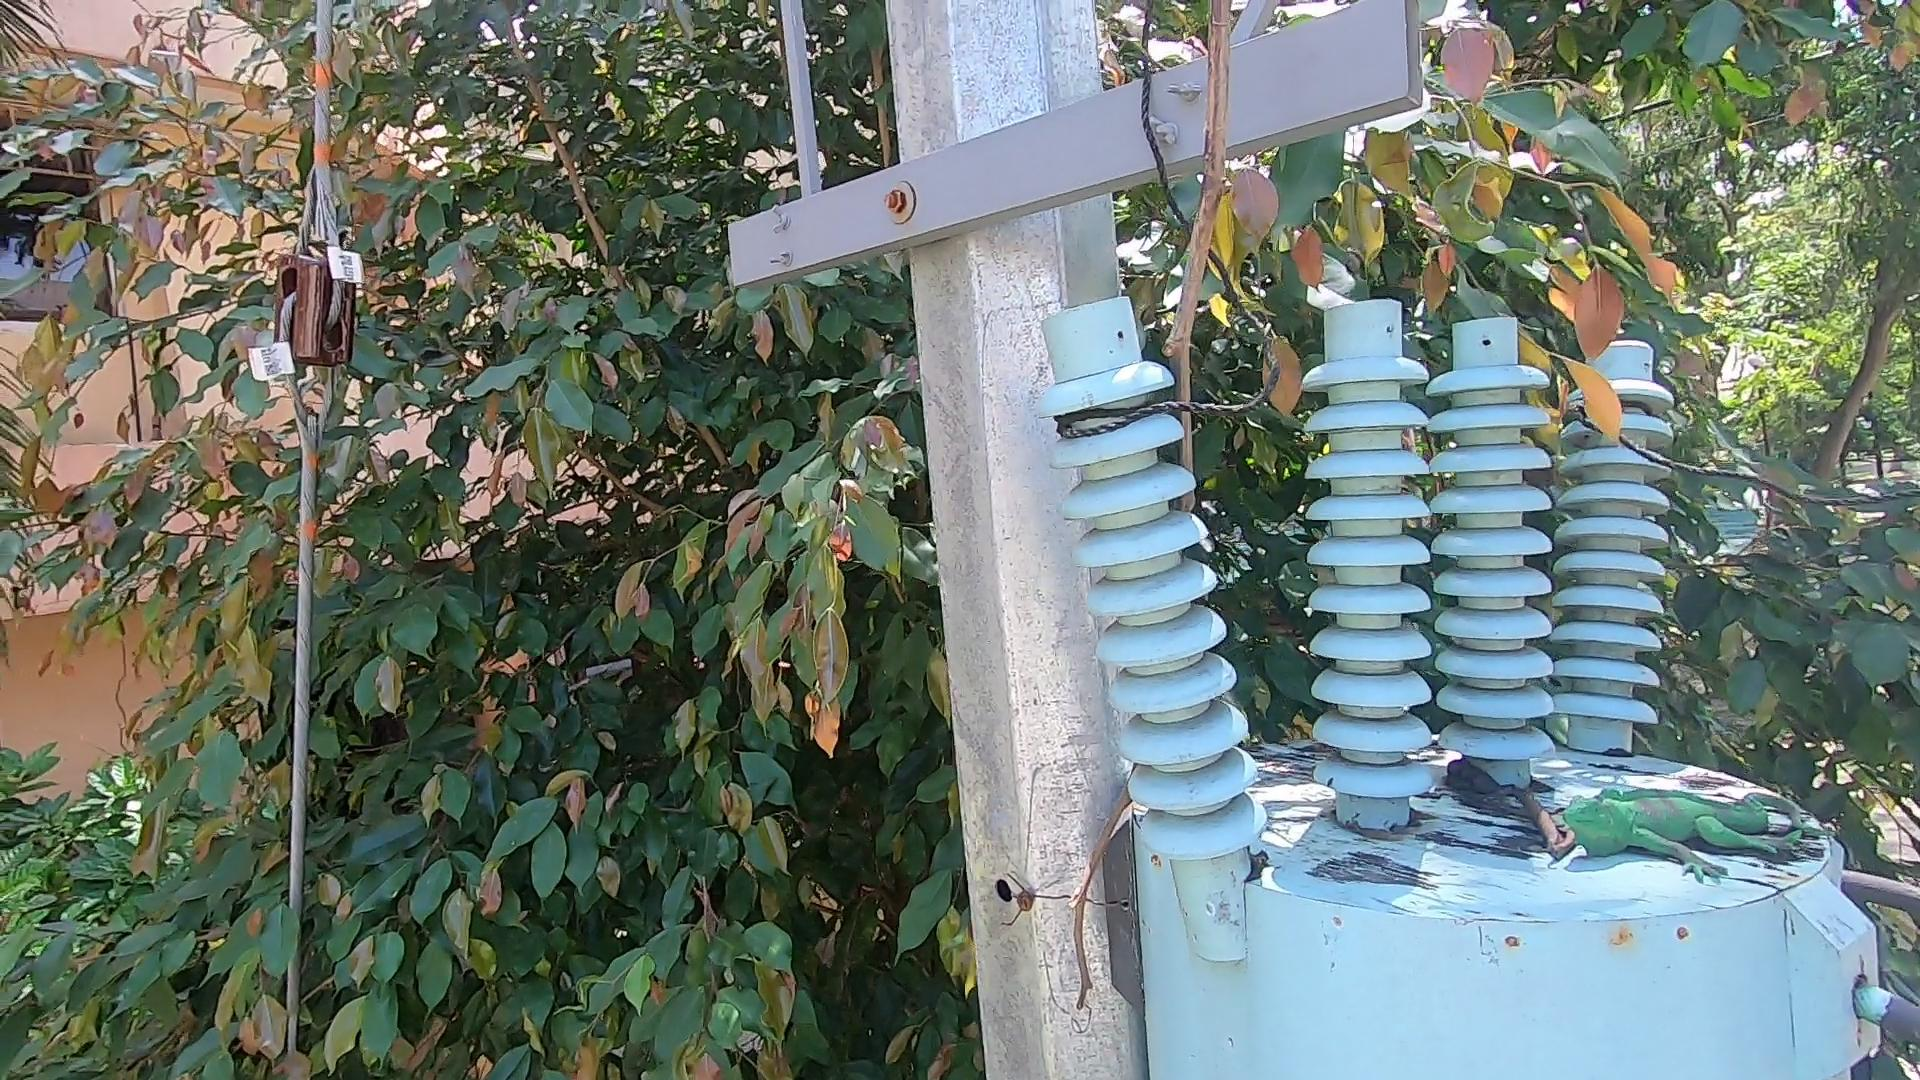branch with leaves: (1480, 320, 1642, 477)
leaf: (1506, 773, 1572, 877), (1440, 760, 1513, 802)
tree branch: (977, 7, 1232, 1030)
